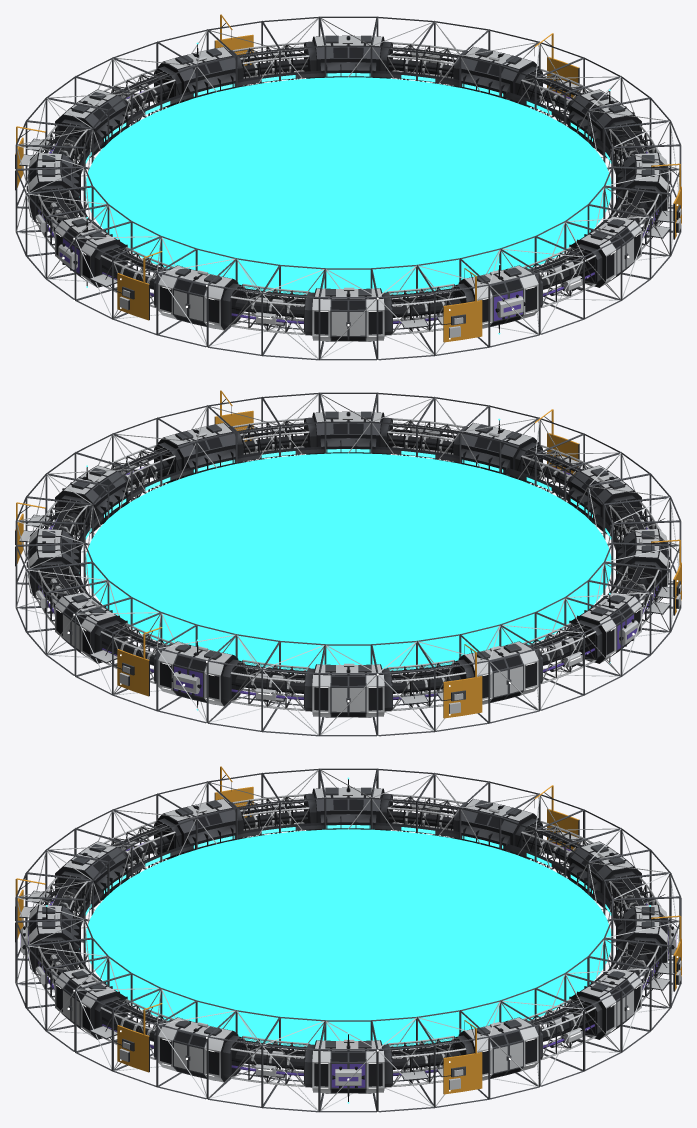
The model's file is gate.glb.
The picture shows the model from 3 angles, top to bottom: view 1: azimuth 30°, elevation 25°; view 2: azimuth 150°, elevation 25°; view 3: azimuth 270°, elevation 25°; orthographic projection.
Parts seen in each view (by area): view 1: portal, gate_mesh, scaffold; view 2: portal, gate_mesh, scaffold; view 3: portal, gate_mesh, scaffold.
Part boxes in pixels (bbox=[...]): portal: bbox=[85, 77, 611, 297]; gate_mesh: bbox=[19, 35, 676, 341]; scaffold: bbox=[14, 14, 682, 361]; portal: bbox=[85, 453, 611, 673]; gate_mesh: bbox=[19, 411, 676, 717]; scaffold: bbox=[14, 390, 682, 737]; portal: bbox=[85, 829, 611, 1049]; gate_mesh: bbox=[18, 777, 677, 1103]; scaffold: bbox=[14, 766, 682, 1113].
Bounding box in the file's own units: 1016 × 133 × 1016.
